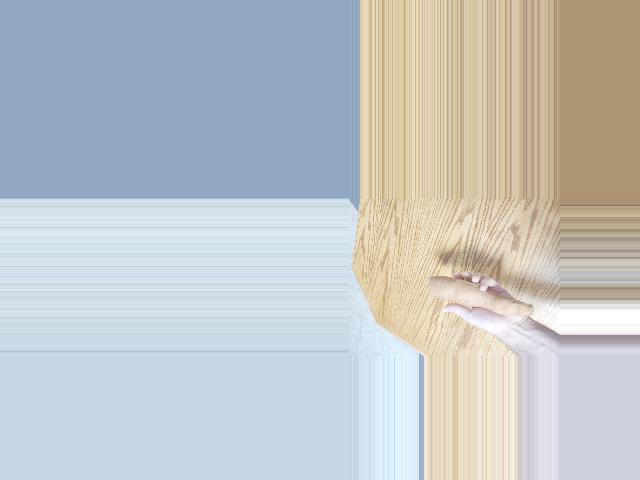sweet_potato: (427, 272, 544, 316)
